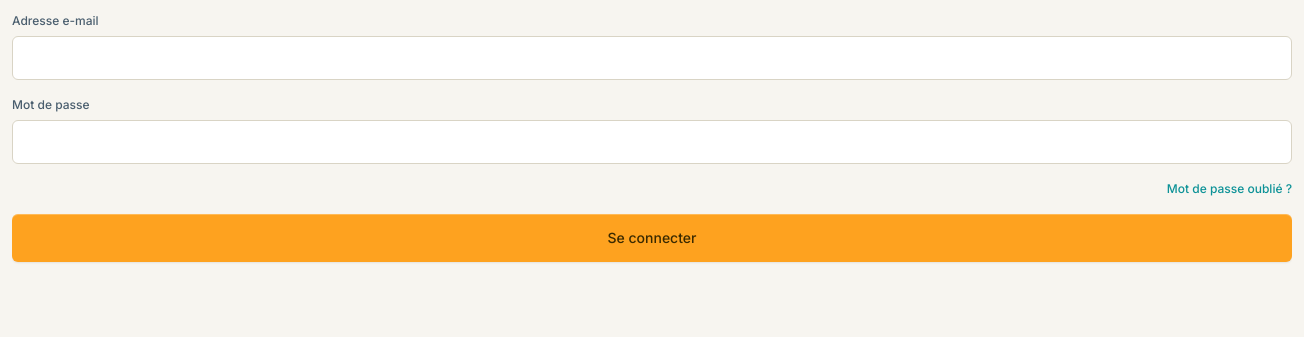
Scenario: LoginForm › affiche un message d’erreur sur identifiants invalides (401)
Type "a@b.dev" into the field labelled "Adresse e-mail" at {"x": 652, "y": 58}, box [12,36,1292,80]
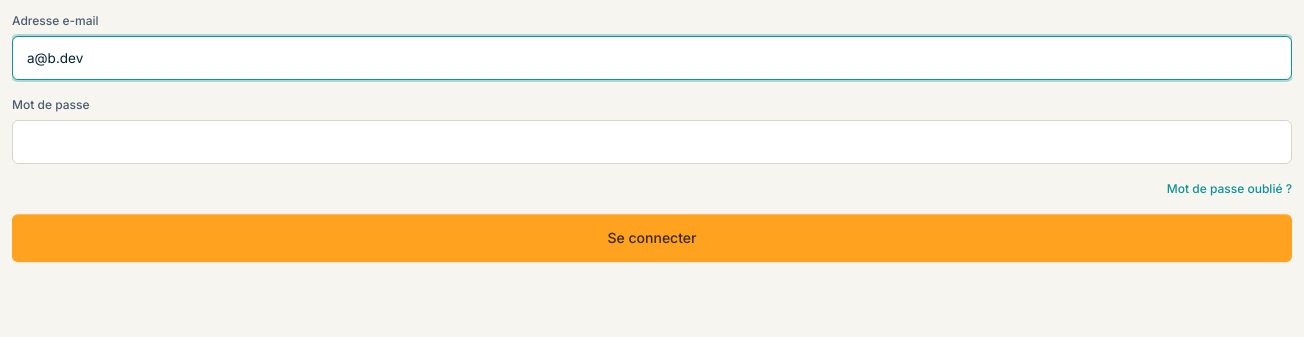
Type "mauvais" into the password field labelled "Mot de passe" at {"x": 652, "y": 142}, box [12,120,1292,164]
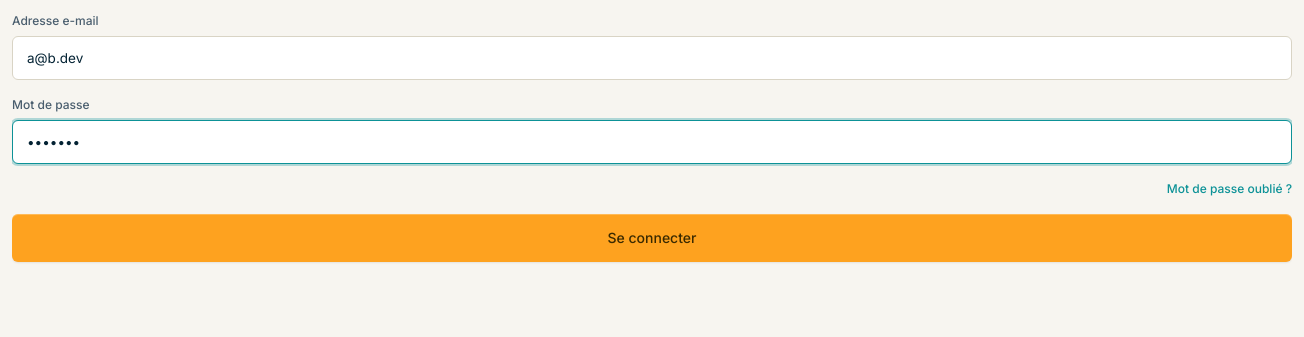
Click the button "Se connecter" at {"x": 652, "y": 238}, box [12,214,1292,262]
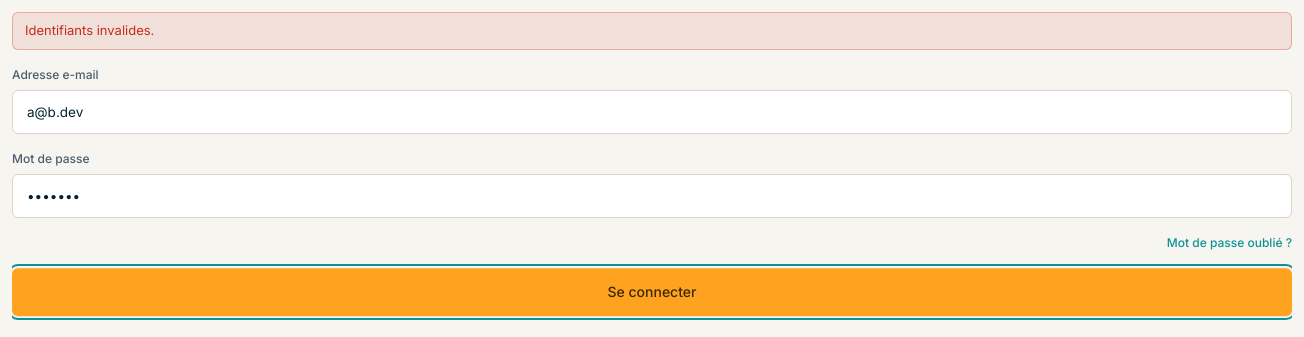
Check: the text "Identifiants invalides." is shown, box [12,12,1292,50]
